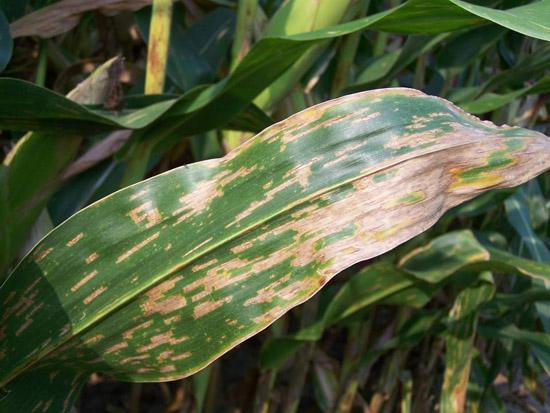Gray_Leaf_Spot: (397, 106, 550, 248), (290, 180, 394, 296), (55, 325, 196, 388), (183, 223, 291, 289), (223, 105, 379, 141), (141, 288, 287, 325), (173, 141, 252, 208), (264, 142, 395, 177), (314, 73, 456, 104), (0, 276, 48, 335), (126, 181, 167, 229), (6, 360, 55, 387), (253, 180, 291, 211), (77, 283, 108, 308), (25, 337, 55, 361), (25, 241, 51, 267), (111, 244, 141, 264), (154, 273, 182, 291), (133, 228, 164, 244), (62, 231, 85, 249), (79, 250, 103, 267), (0, 347, 8, 361), (161, 245, 173, 252), (158, 264, 173, 268)
